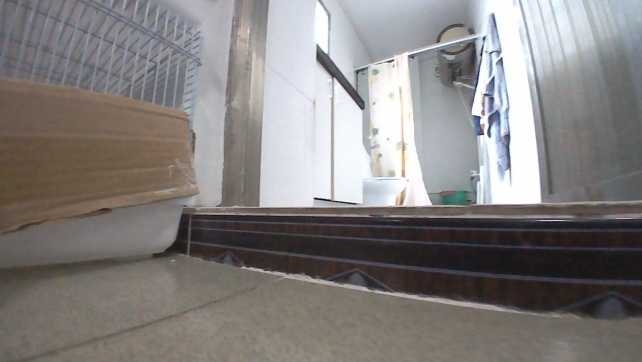door_sill: (176, 200, 642, 320)
toilet: (360, 144, 407, 205)
